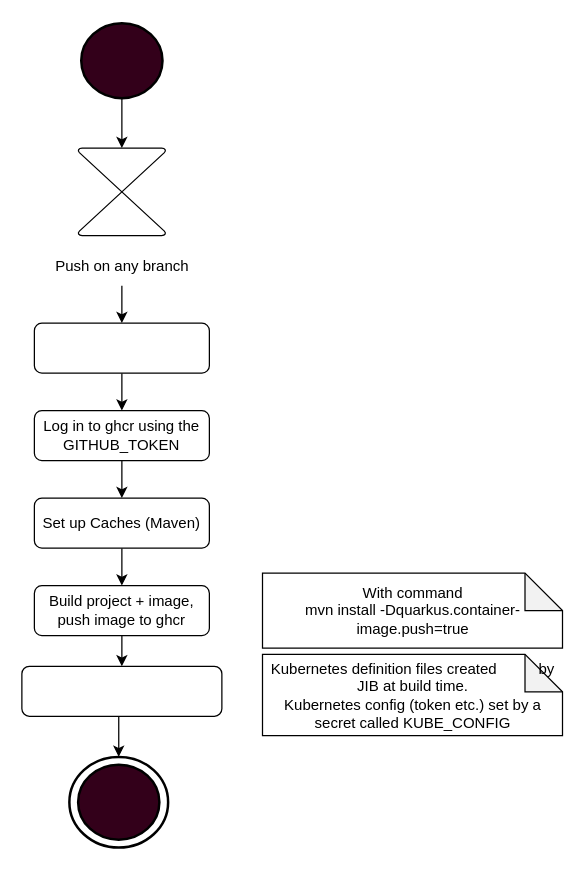
Image size: 585x870. Some labels were removed from this diagram. Each missing label, with the centre of its shape:
Apply kubernetes definitions to LeoCloud: (x=121, y=690)
Set up JDK (OpenJDK 17): (x=121, y=347)
